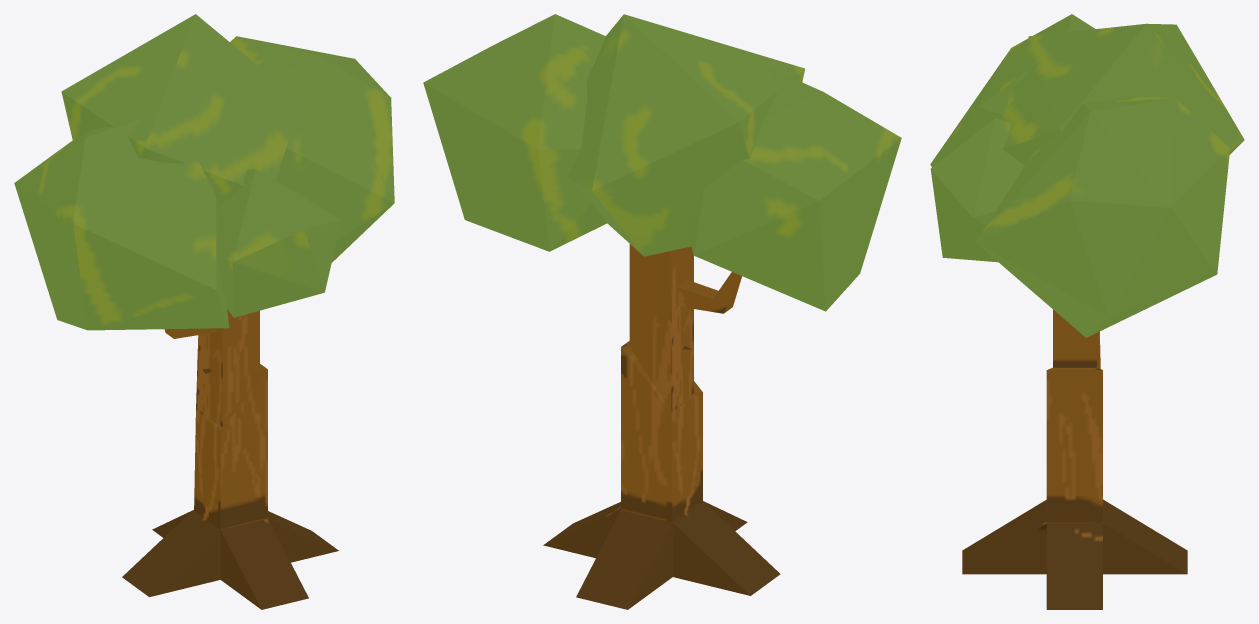
Rendered from tree_chesburg_4.glb.
3 views of the same model, side by side, from view 1: azimuth 30°, elevation 25°; view 2: azimuth 150°, elevation 25°; view 3: azimuth 270°, elevation 25° (orthographic). The views are drawn at different scales.
Visible parts, largest first — view 1: leaves.003; view 2: leaves.003; view 3: leaves.003.
Boxes of the visible parts, <box> form: leaves.003: <box>14,14,394,609</box>; leaves.003: <box>423,14,901,609</box>; leaves.003: <box>930,14,1244,609</box>.
Size of the model in its own units: 7.68 by 10.55 by 5.58.
